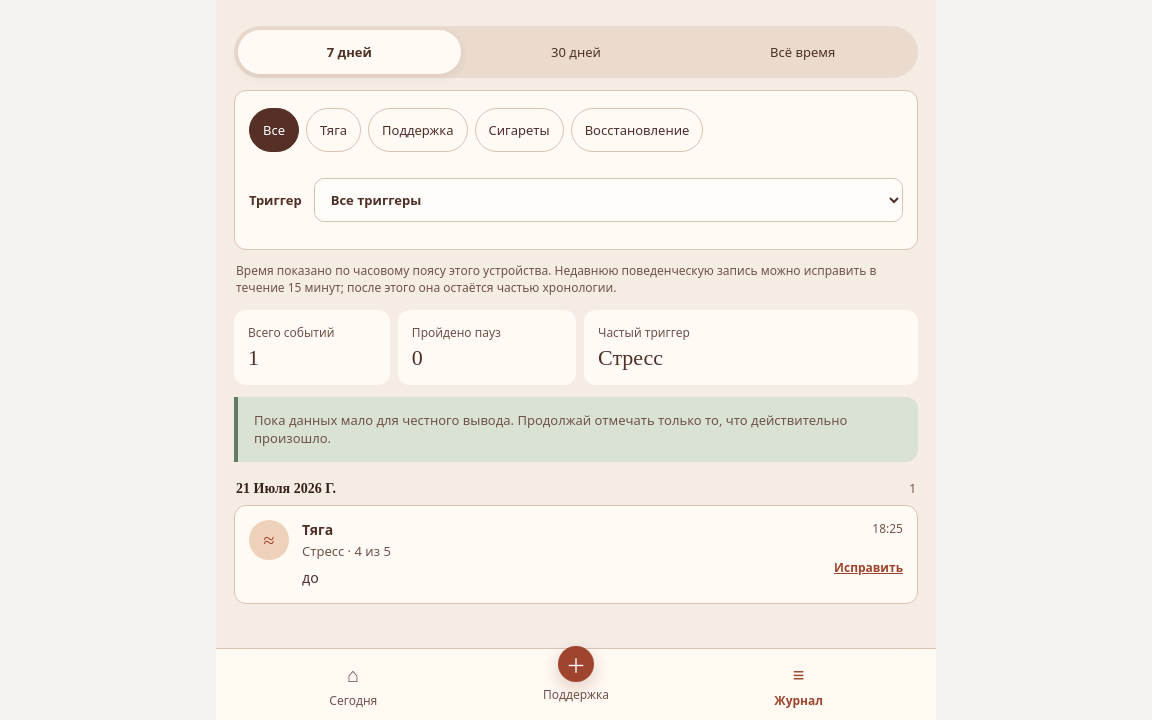
it: journal correction window › edits a recent behavioural event and keeps the dialog keyboard accessible
(page scrolled)
Click the button "Исправить". click: [869, 567]
box: [834,545,903,589]
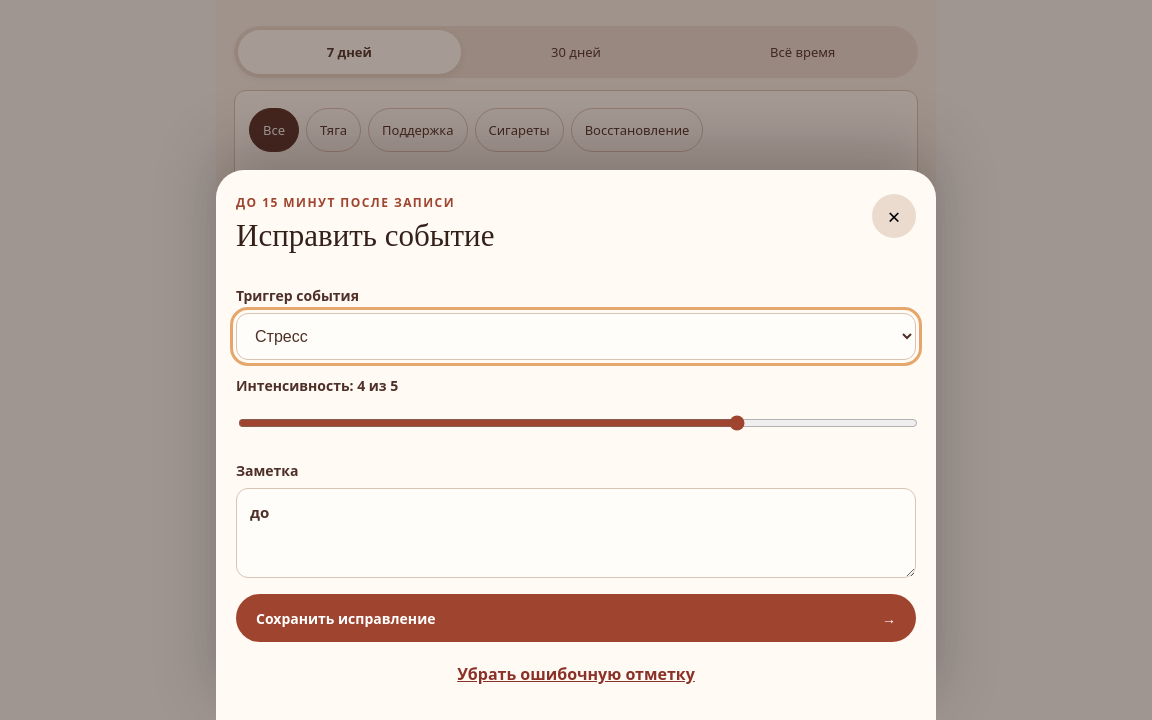
Expected: the dialog "Исправить событие" is shown, [216,170,936,719]
Select "Кофе" in the dropdown labelled "Триггер события". click: [576, 336]
box: [236,313,916,360]
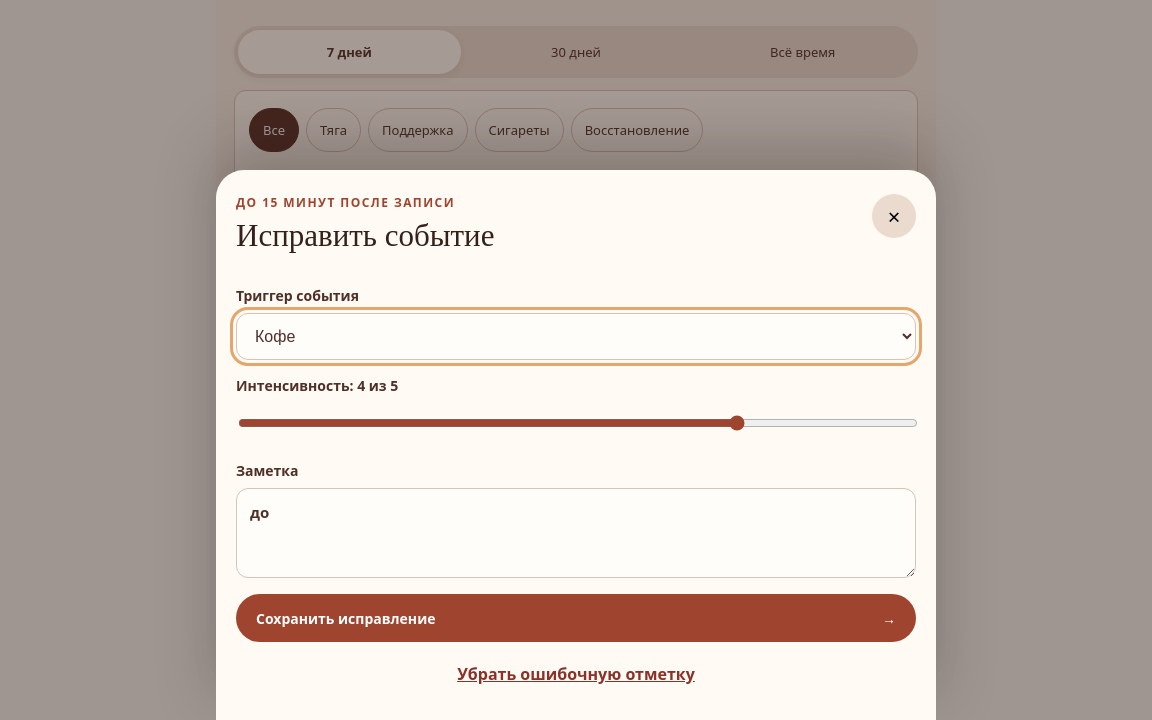
Replace the text in the text box labelled "Заметка" with "исправлено". click: [576, 533]
box: [236,488,916,578]
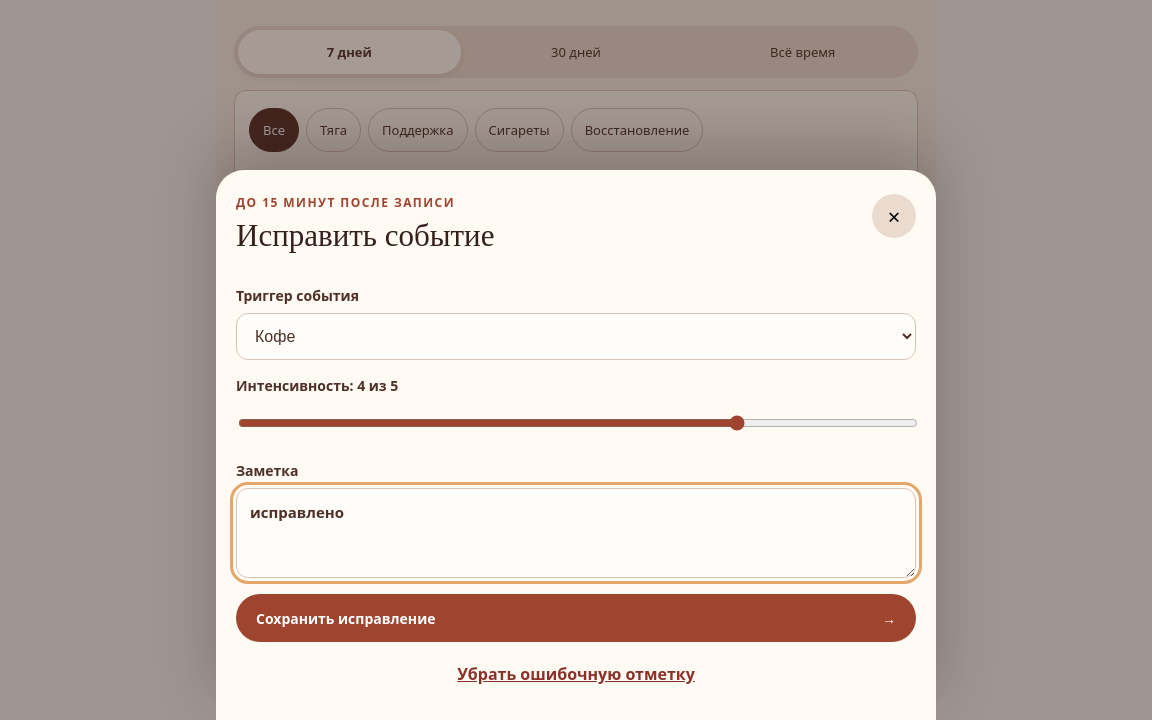
Click the button "Сохранить исправление →". click: [346, 618]
box: [236,594,916,642]
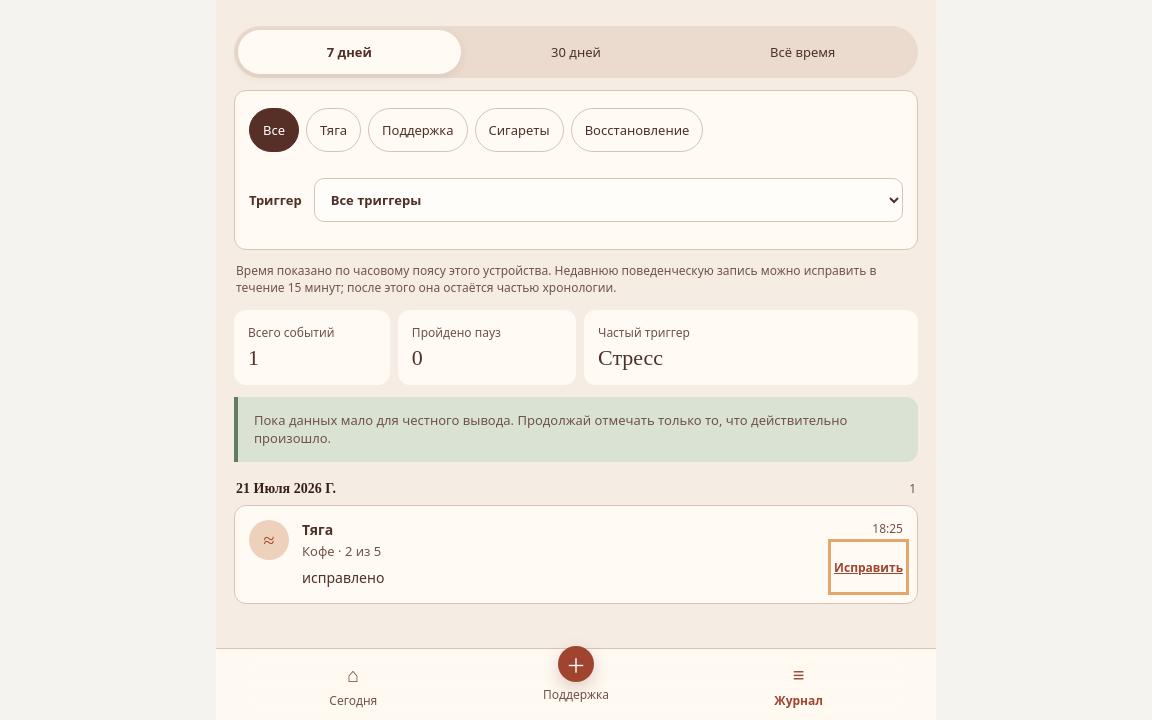
Expected: the text "исправлено" is shown, [302,568,384,587]
